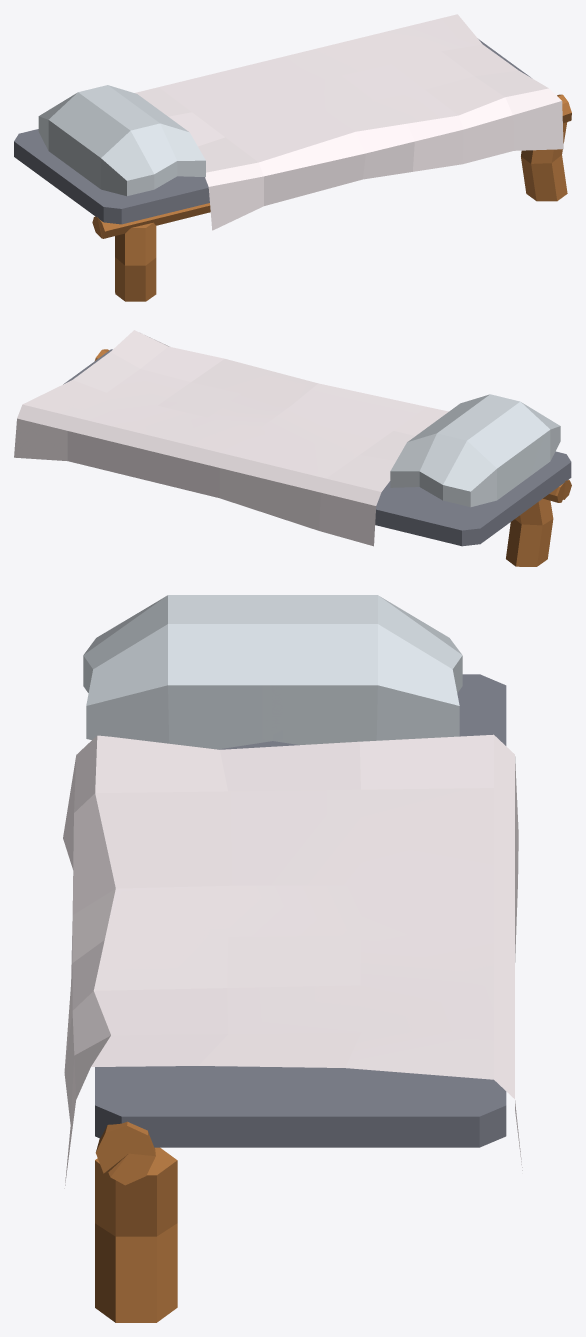
Rendered from Beach_House_Bed_01.fbx.
The picture shows the model from 3 angles, top to bottom: view 1: azimuth 30°, elevation 25°; view 2: azimuth 150°, elevation 25°; view 3: azimuth 270°, elevation 25°; orthographic projection. The views are drawn at different scales.
Visible parts, largest first — view 1: Beach_House_Bed_01; view 2: Beach_House_Bed_01; view 3: Beach_House_Bed_01.
Boxes of the visible parts, x1,y1,x2,y2 form: Beach_House_Bed_01: (14, 14, 571, 301); Beach_House_Bed_01: (14, 330, 571, 566); Beach_House_Bed_01: (63, 595, 522, 1322).
Size of the model in its own units: 3.64 by 1.19 by 1.56.
